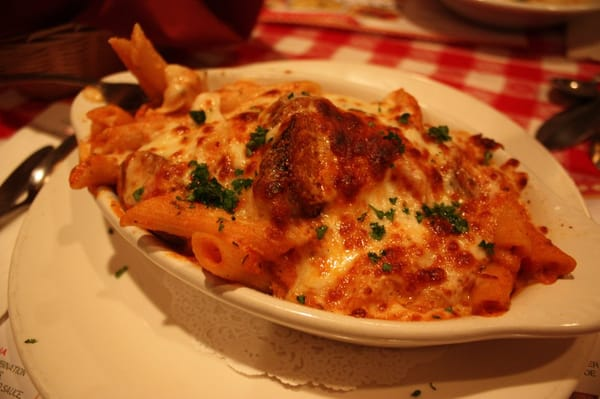sandwich: (0, 135, 77, 225)
